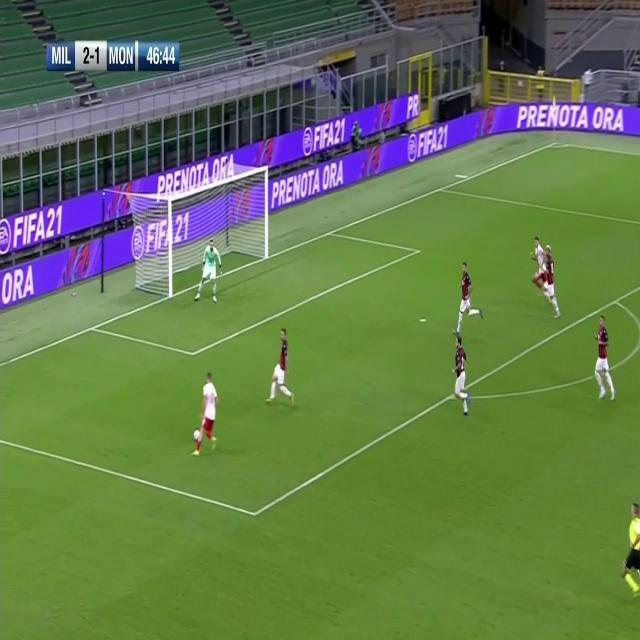ball: (192, 427, 202, 443)
goalkeeper: (195, 237, 224, 303)
player: (266, 327, 296, 409), (454, 260, 485, 334), (194, 371, 220, 459), (593, 315, 617, 404), (453, 333, 473, 419), (542, 241, 562, 319), (530, 236, 545, 296)
referee: (620, 499, 640, 600)
